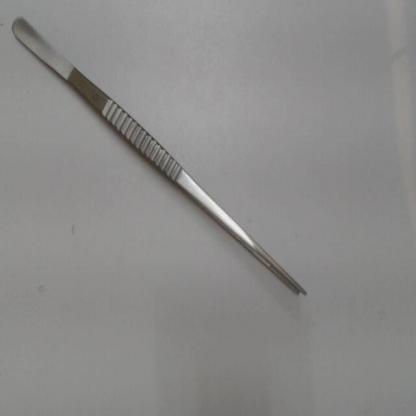DeBakey Dissector: (2, 2, 337, 338)
